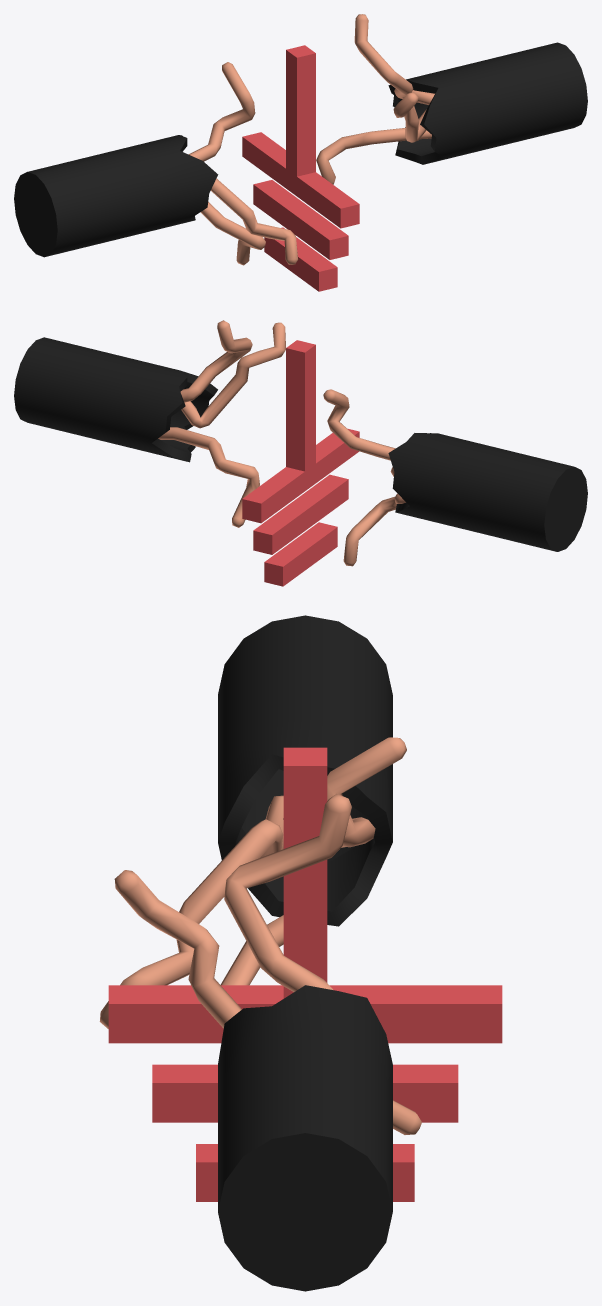
The model's file is FaultActive.glb.
The picture shows the model from 3 angles, top to bottom: view 1: azimuth 30°, elevation 25°; view 2: azimuth 150°, elevation 25°; view 3: azimuth 270°, elevation 25°; orthographic projection. The views are drawn at different scales.
Parts seen in each view (by area): view 1: Cylinder, Cube, Plane, Plane.001; view 2: Cylinder, Cube, Plane.001, Plane; view 3: Cylinder, Cube, Plane.001, Plane.
Part boxes in pixels (x1,y1,x2,y2): Cylinder: [14, 42, 587, 257]; Cube: [242, 45, 359, 291]; Plane: [188, 62, 298, 265]; Plane.001: [316, 14, 434, 184]; Cylinder: [14, 337, 587, 551]; Cube: [242, 340, 359, 586]; Plane.001: [158, 320, 285, 527]; Plane: [323, 389, 405, 566]; Cylinder: [218, 615, 392, 1291]; Cube: [108, 747, 502, 1201]; Plane.001: [114, 793, 421, 1134]; Plane: [99, 737, 406, 1028].
Bounding box in the file's own units: 1.03 × 0.4301 × 0.3381.
